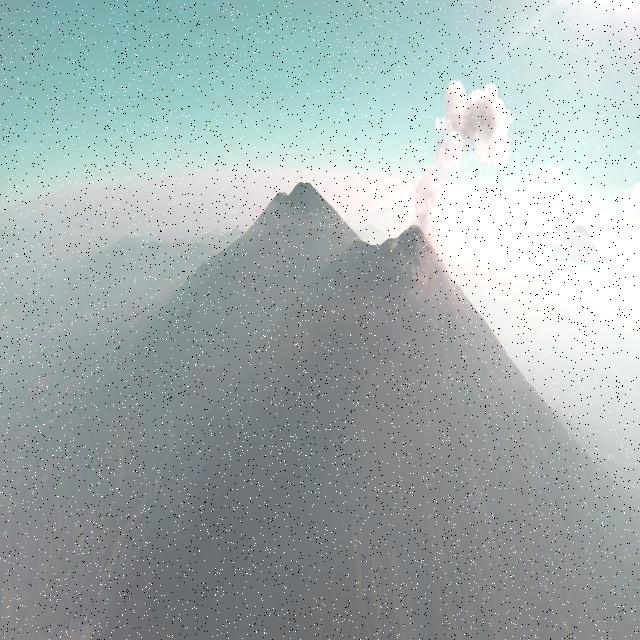Plume: (414, 76, 514, 224)
Summit: (319, 226, 437, 280)
